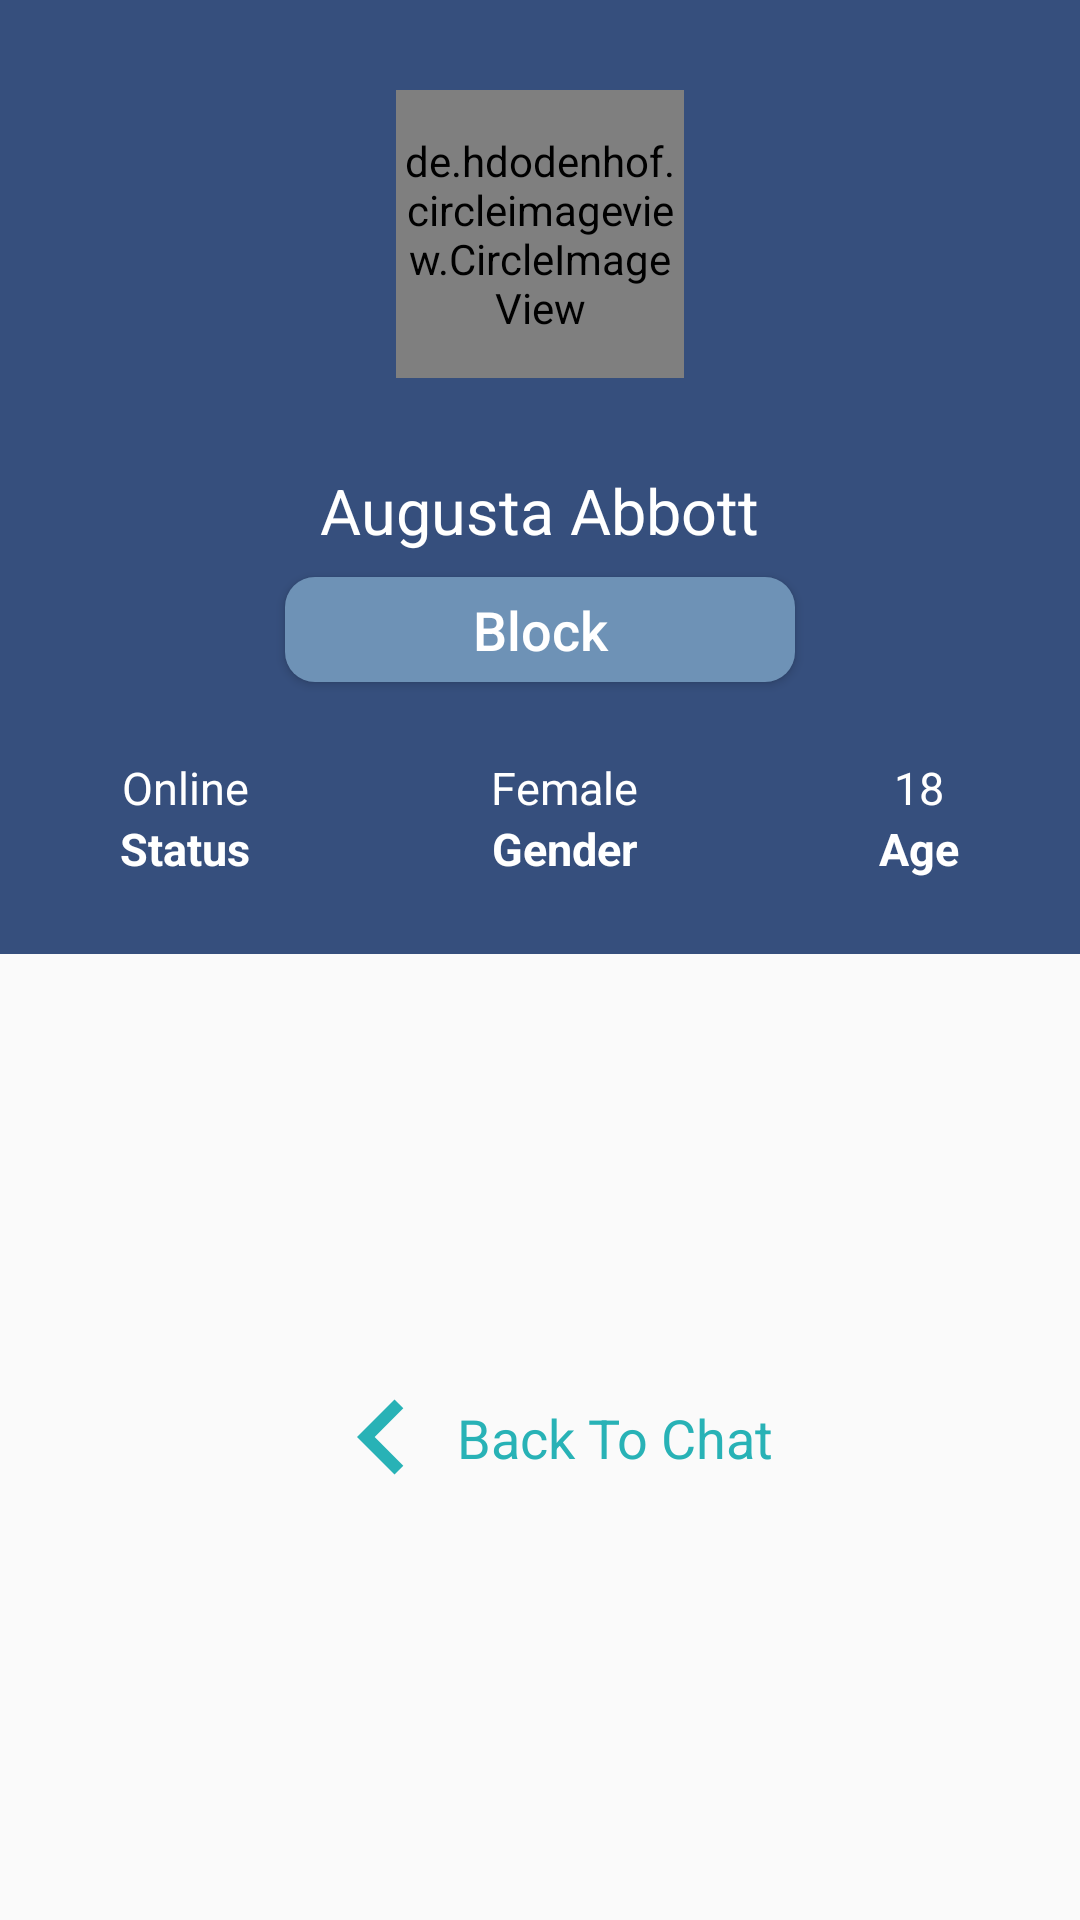

Icons on this 1080×1920 Android screen, each with the point to tap as point (x, y):
left arrow: point (380, 1437)
